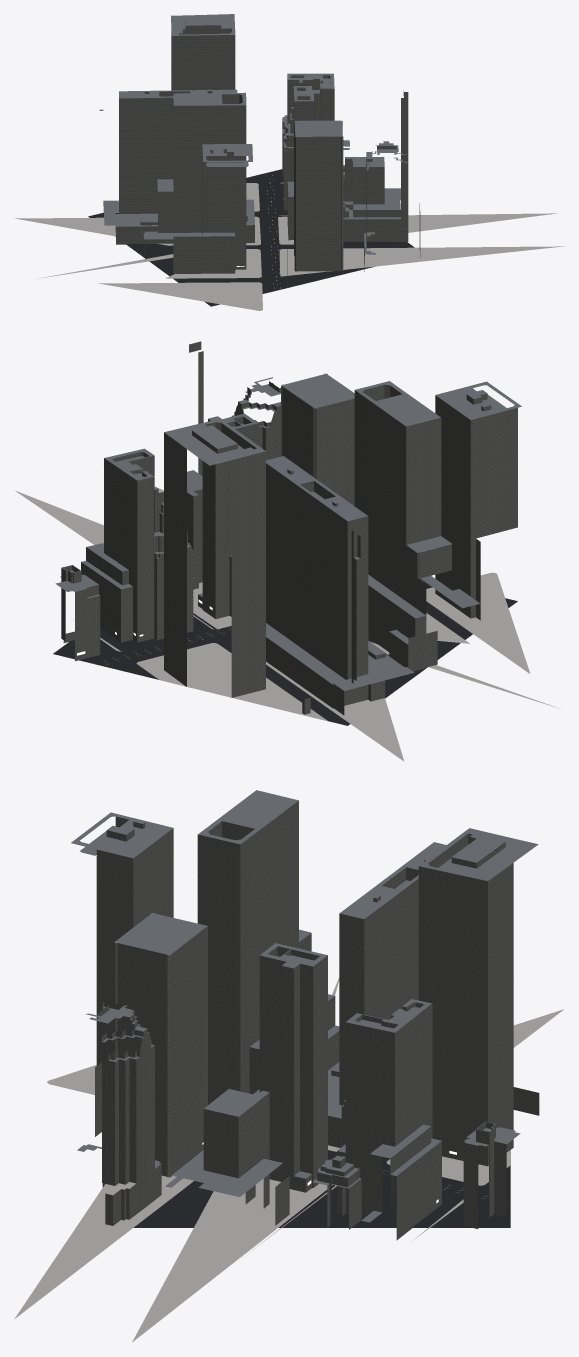
3 renders of one model, top to bottom at view 1: azimuth 30°, elevation 25°; view 2: azimuth 150°, elevation 25°; view 3: azimuth 270°, elevation 25°, orthographic. The views are drawn at different scales.
Parts seen in each view (by area): view 1: t5_3, detail; view 2: t5_3, detail; view 3: t5_3, detail.
Part boxes in pixels (left/top/right/bottom): t5_3: left=88, top=14, right=420, bottom=306; detail: left=14, top=171, right=563, bottom=310; t5_3: left=53, top=341, right=521, bottom=725; detail: left=15, top=464, right=560, bottom=761; t5_3: left=71, top=790, right=539, bottom=1240; detail: left=14, top=977, right=564, bottom=1342.
Bounding box in the file's own units: 541 × 199 × 338.
5 materials, 2 textured.
